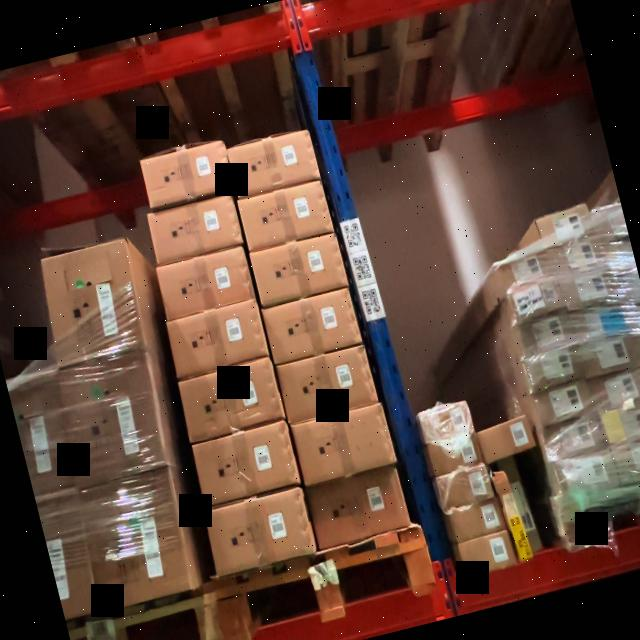box: (80, 465, 193, 612), (59, 349, 166, 488), (40, 236, 142, 361), (204, 488, 314, 576), (191, 420, 300, 508), (178, 356, 283, 442), (290, 401, 397, 485), (307, 467, 408, 548), (276, 344, 378, 424), (167, 299, 268, 379), (261, 290, 362, 365), (249, 231, 348, 307), (156, 247, 255, 322), (148, 193, 244, 265), (237, 180, 334, 251), (139, 138, 235, 209), (227, 128, 320, 198), (500, 460, 543, 554), (494, 470, 530, 559), (530, 378, 594, 428), (522, 343, 583, 394), (569, 297, 631, 344), (514, 310, 575, 357), (539, 416, 603, 460), (554, 451, 618, 495), (533, 200, 591, 248), (459, 530, 518, 577), (478, 415, 535, 462), (450, 498, 507, 545), (578, 335, 639, 378), (558, 265, 620, 307), (509, 275, 564, 322), (437, 464, 494, 509), (546, 231, 604, 275), (418, 399, 472, 444), (427, 431, 481, 474), (590, 368, 640, 411), (500, 249, 550, 289), (600, 403, 640, 444), (611, 444, 640, 479)
